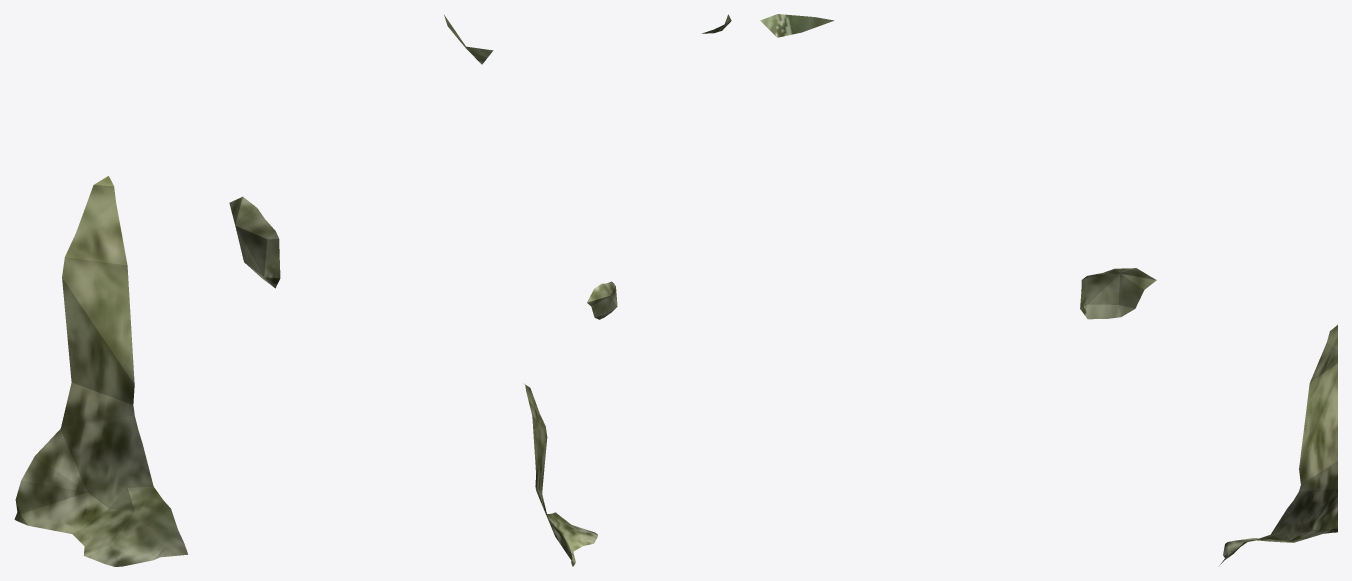
3 renders of one model, left to right at view 1: azimuth 30°, elevation 25°; view 2: azimuth 150°, elevation 25°; view 3: azimuth 270°, elevation 25°, orthographic. The views are drawn at different scales.
Size of the model in its own units: 0.4001 by 2.95 by 2.83.
1 material, 1 textured.
